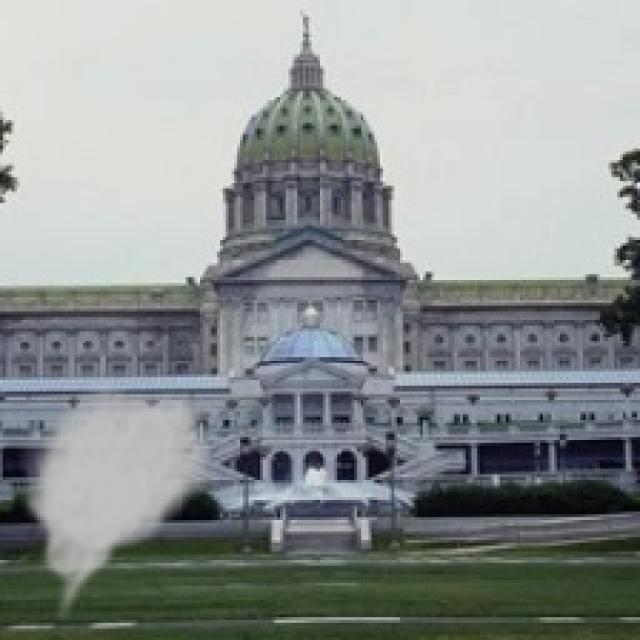Smoke: (17, 380, 220, 626)
